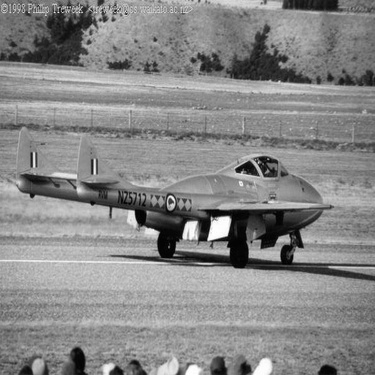airplane: (3, 117, 341, 275)
